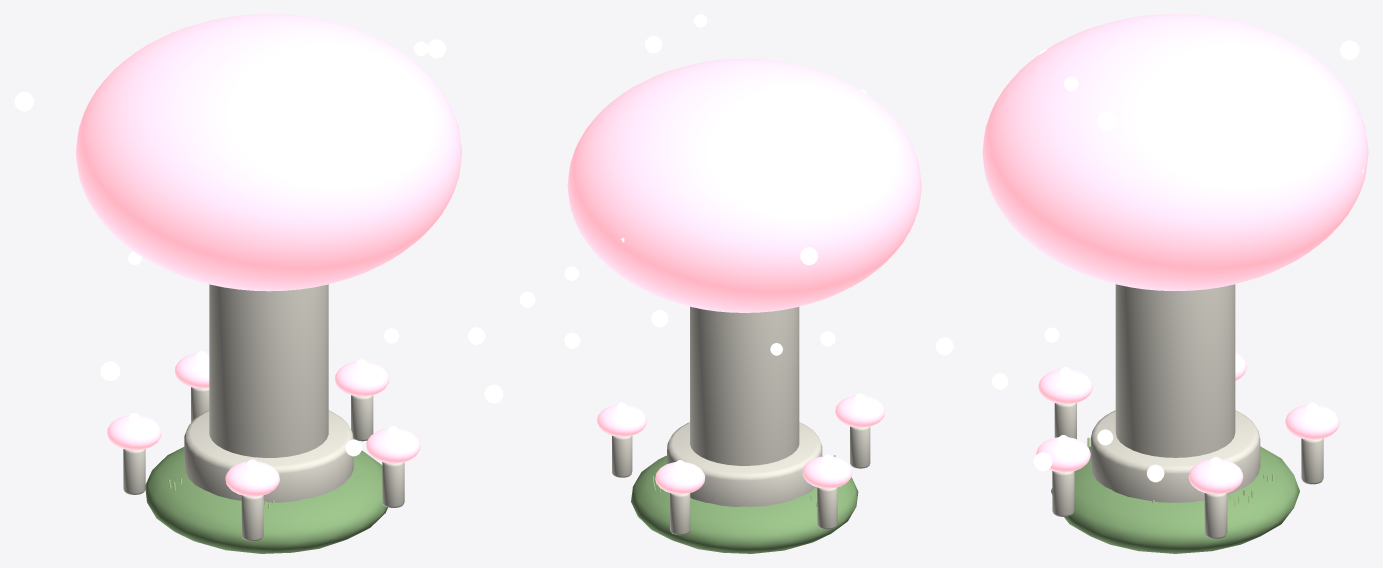
Rendered from giant_mushroom.glb.
3 views of the same model, side by side, from view 1: azimuth 30°, elevation 25°; view 2: azimuth 150°, elevation 25°; view 3: azimuth 270°, elevation 25° (orthographic). The views are drawn at different scales.
Visible parts, largest first — view 1: giant_mushroom; view 2: giant_mushroom; view 3: giant_mushroom.
Part boxes in pixels (x1,y1,x2,y2): giant_mushroom: [14, 14, 535, 553]; giant_mushroom: [564, 14, 953, 553]; giant_mushroom: [982, 14, 1368, 553].
Size of the model in its own units: 1.98 by 2.2 by 1.55.
